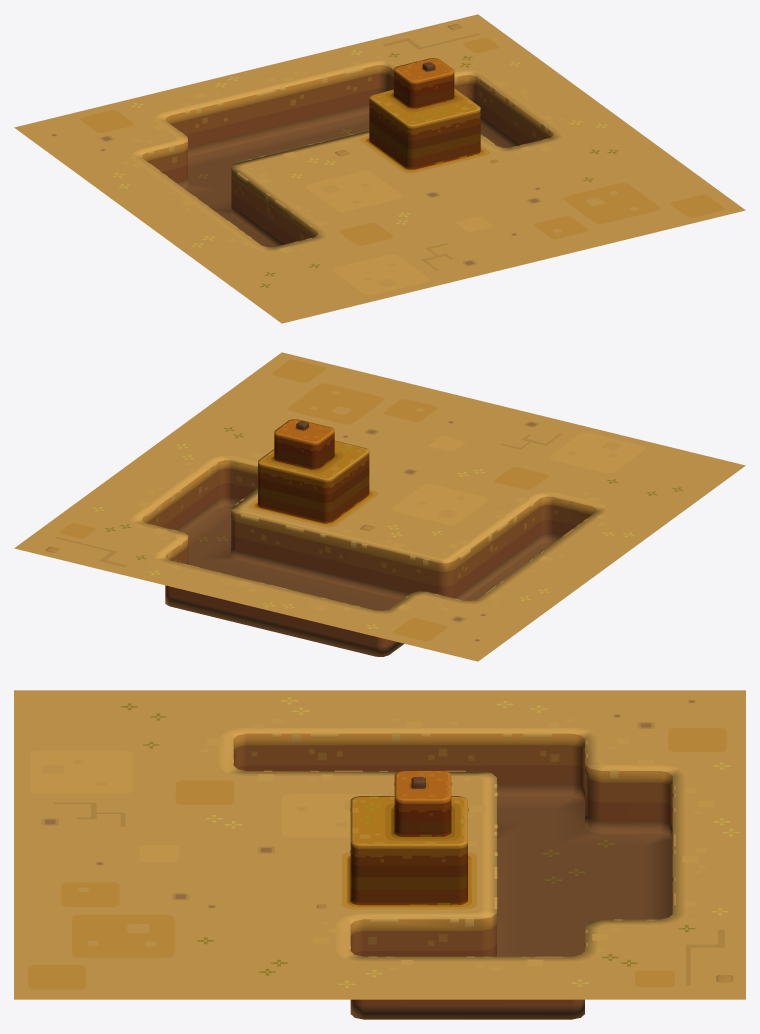
Rendered from C_mountain1_06.fbx.
3 views of the same model, one above another, from view 1: azimuth 30°, elevation 25°; view 2: azimuth 150°, elevation 25°; view 3: azimuth 270°, elevation 25° (orthographic). The views are drawn at different scales.
Visible parts, largest first — view 1: C_mountain1_06; view 2: C_mountain1_06; view 3: C_mountain1_06.
Part boxes in pixels (x1=…): C_mountain1_06: x1=14, y1=14, x2=745, y2=323; C_mountain1_06: x1=14, y1=352, x2=745, y2=661; C_mountain1_06: x1=14, y1=690, x2=745, y2=1019.
Bounding box in the file's own units: 50 × 12.9 × 50.
